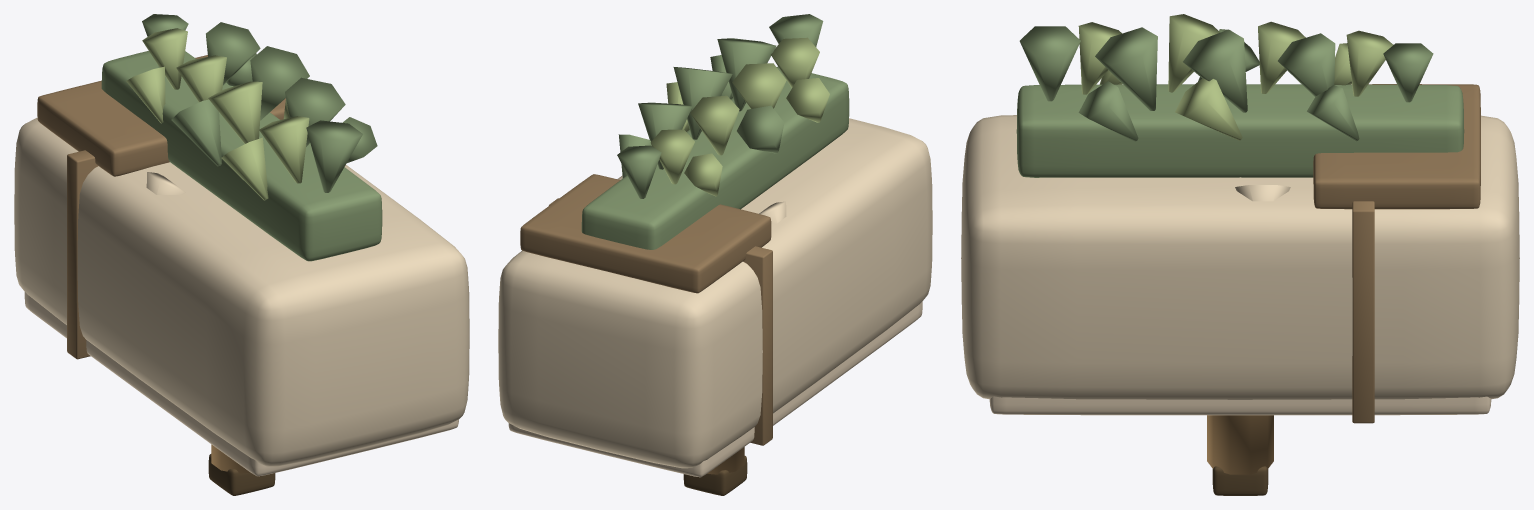
The model's file is burrow_boar_v3.glb.
The picture shows the model from 3 angles, left to right: view 1: azimuth 30°, elevation 25°; view 2: azimuth 150°, elevation 25°; view 3: azimuth 270°, elevation 25°; orthographic projection. The views are drawn at different scales.
Parts seen in each view (by area): view 1: Body_Barrel, Mane_Ridge, Saddle, Body_Belly, Strap_detail, Mane_ruffle_leaf_0, Mane_ruffle_leaf_4, Mane_ruffle_leaf_3, Mane_ruffle_leaf_2, Mane_ruffle_leaf_1, Mane_ruffle_leaf_11, Mane_ruffle_leaf_6 (+9 smaller); view 2: Body_Barrel, Mane_Ridge, Saddle, Body_Belly, Strap_detail, Mane_ruffle_leaf_3, Mane_ruffle_leaf_5, Mane_ruffle_leaf_4, Mane_ruffle_leaf_2, Mane_ruffle_leaf_11, Mane_ruffle_leaf_1, Mane_ruffle_leaf_7 (+6 smaller); view 3: Body_Barrel, Mane_Ridge, Saddle, Body_Belly, Strap_detail, BL_Leg, Mane_ruffle_leaf_2, Mane_ruffle_leaf_4, Mane_ruffle_leaf_0, Mane_ruffle_leaf_6, Mane_ruffle_leaf_12, Mane_ruffle_leaf_3 (+9 smaller).
Boxes of the visible parts, x1,y1,x2,y2 form: Body_Barrel: (14,117,469,466); Mane_Ridge: (101,51,382,261); Saddle: (37,55,285,176); Body_Belly: (24,291,458,476); Strap_detail: (67,150,97,359); Mane_ruffle_leaf_0: (306,120,362,192); Mane_ruffle_leaf_4: (250,46,309,120); Mane_ruffle_leaf_3: (208,81,262,143); Mane_ruffle_leaf_2: (285,77,345,146); Mane_ruffle_leaf_1: (259,116,309,183); Mane_ruffle_leaf_11: (171,99,221,166); Mane_ruffle_leaf_6: (206,22,260,85); Body_Barrel: (498,118,932,468); Mane_Ridge: (581,66,849,249); Saddle: (520,174,771,293); Body_Belly: (508,301,922,477); Strap_detail: (549,198,772,445); Mane_ruffle_leaf_3: (732,63,786,108); Mane_ruffle_leaf_5: (690,95,739,155); Mane_ruffle_leaf_4: (673,67,732,139); Mane_ruffle_leaf_2: (717,38,776,111); Mane_ruffle_leaf_11: (737,105,784,153); Mane_ruffle_leaf_1: (771,37,819,87); Mane_ruffle_leaf_7: (650,129,694,184); Body_Barrel: (961,115,1519,399); Mane_Ridge: (1016,84,1464,177); Saddle: (1313,84,1480,209); Body_Belly: (989,396,1491,415); Strap_detail: (1352,201,1374,423); BL_Leg: (1207,415,1273,474); Mane_ruffle_leaf_2: (1095,27,1157,110); Mane_ruffle_leaf_4: (1183,29,1247,112); Mane_ruffle_leaf_0: (1019,26,1080,101); Mane_ruffle_leaf_6: (1278,33,1335,96); Mane_ruffle_leaf_12: (1175,78,1242,140); Mane_ruffle_leaf_3: (1168,14,1219,92).
Bounding box in the file's own units: 0.5 × 0.9107 × 0.9984.
